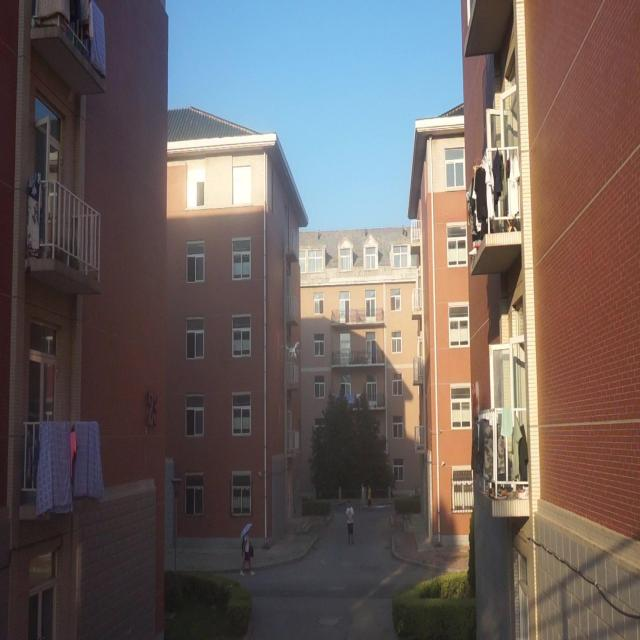UAV: (284, 341, 302, 361)
